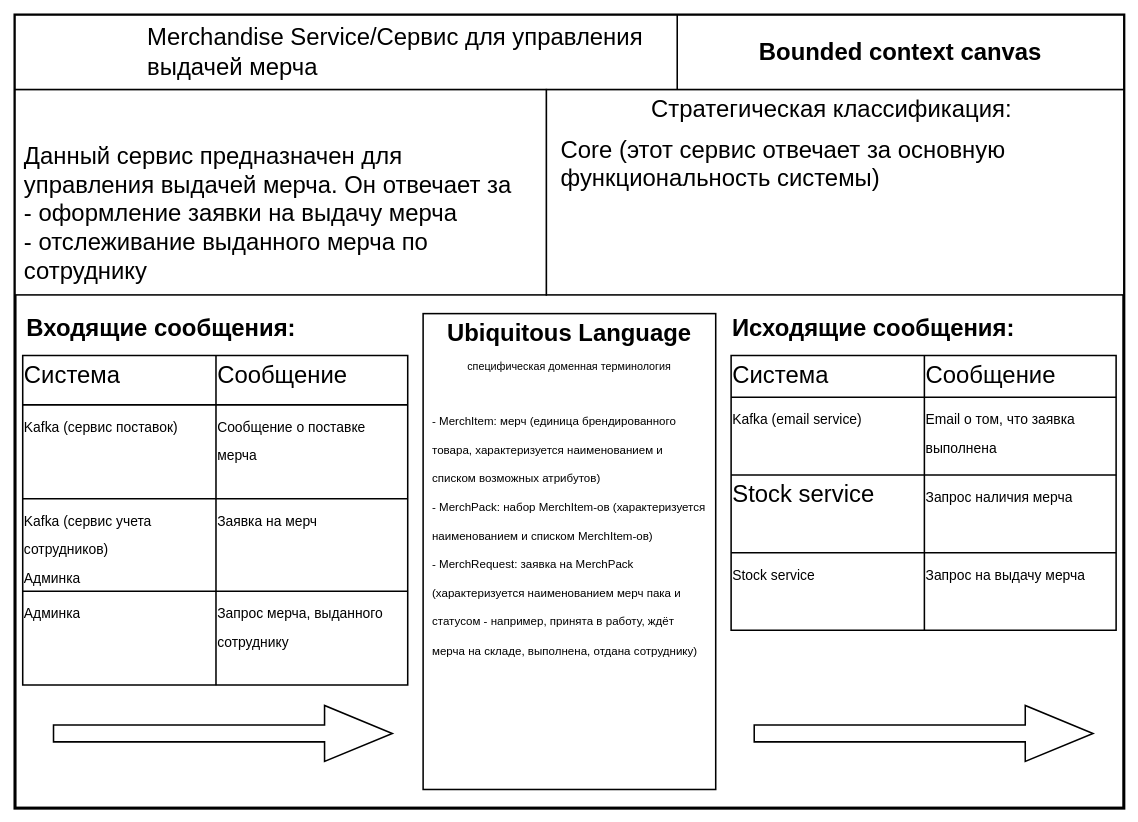
The diagram is 1138 pixels wide and 822 high, and some of its shapes have lost their labels. The box of each missing label's shape, as (x1, y1, x2, y2) in pixels:
Название:: (14, 14, 678, 90)
Описание:: (14, 88, 547, 295)
